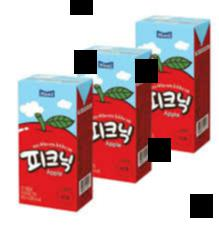picnic_apple: (16, 73, 85, 213)
